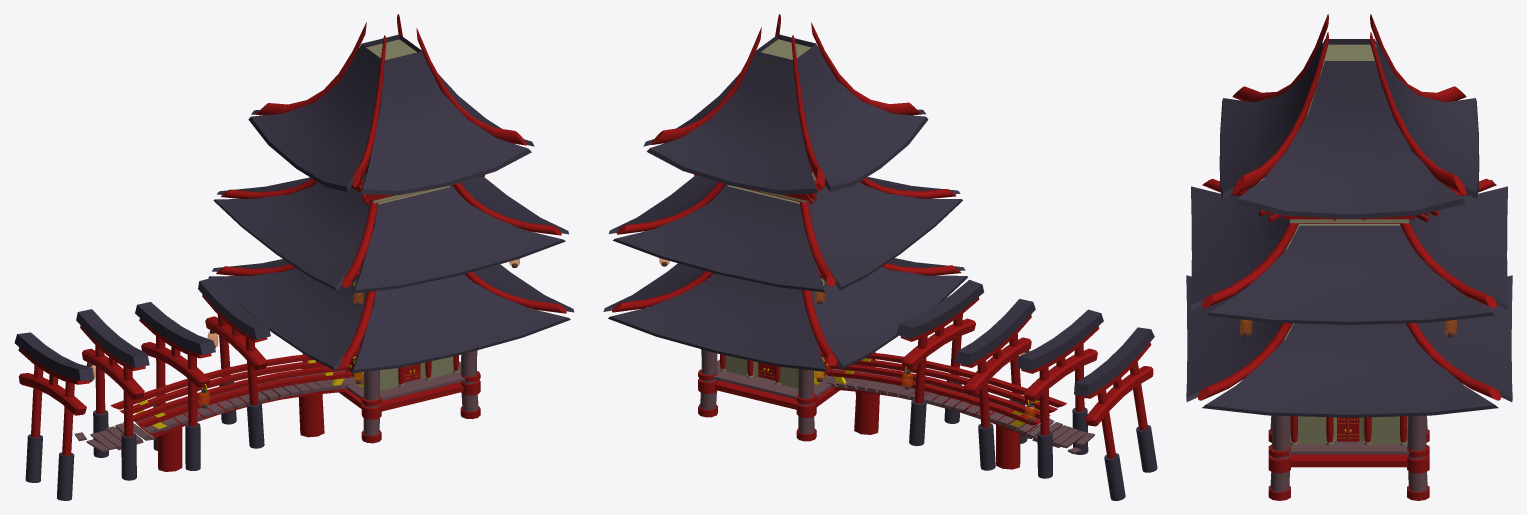
3 renders of one model, left to right at view 1: azimuth 30°, elevation 25°; view 2: azimuth 150°, elevation 25°; view 3: azimuth 270°, elevation 25°, orthographic. The views are drawn at different scales.
Parts seen in each view (by area): view 1: Cylinder171; view 2: Cylinder171; view 3: Cylinder171.
Boxes of the visible parts, bbox=[...] form: Cylinder171: bbox=[14, 14, 574, 500]; Cylinder171: bbox=[603, 14, 1157, 500]; Cylinder171: bbox=[1186, 14, 1512, 500].
Bounding box in the file's own units: 2524 × 1981 × 1291.
